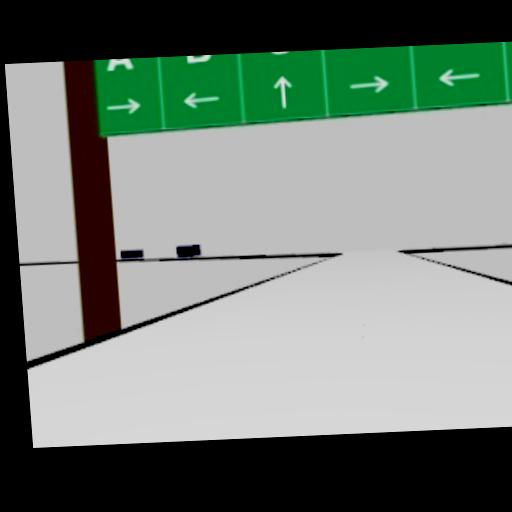A: (105, 59, 134, 71)
B: (186, 55, 212, 64)
Left: (434, 66, 482, 88), (181, 91, 221, 108)
Right: (347, 73, 392, 95), (105, 96, 142, 116)
Straight: (271, 74, 294, 108)
